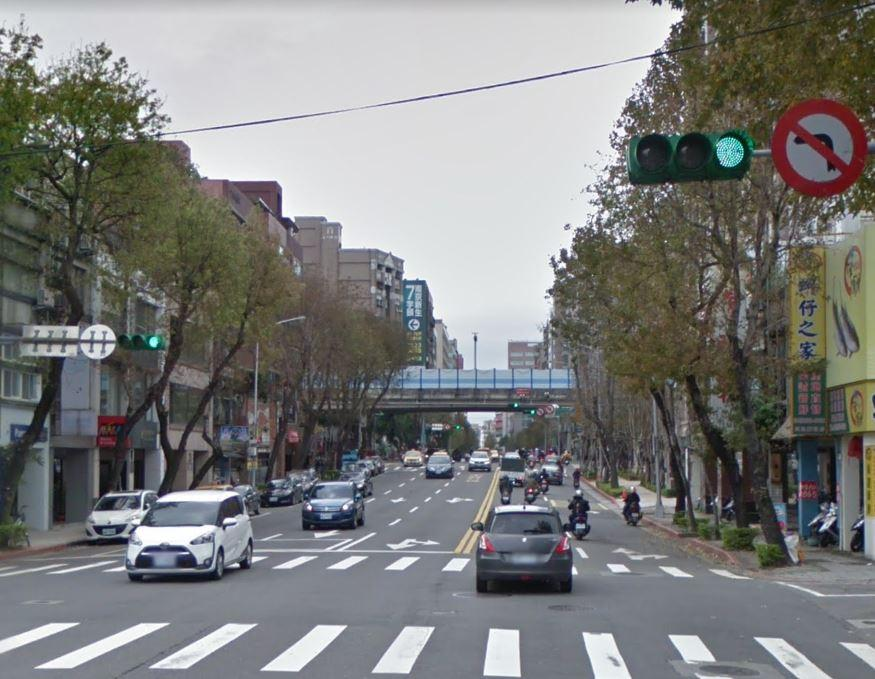green_traffic_light: (614, 127, 753, 184), (112, 331, 165, 352)
